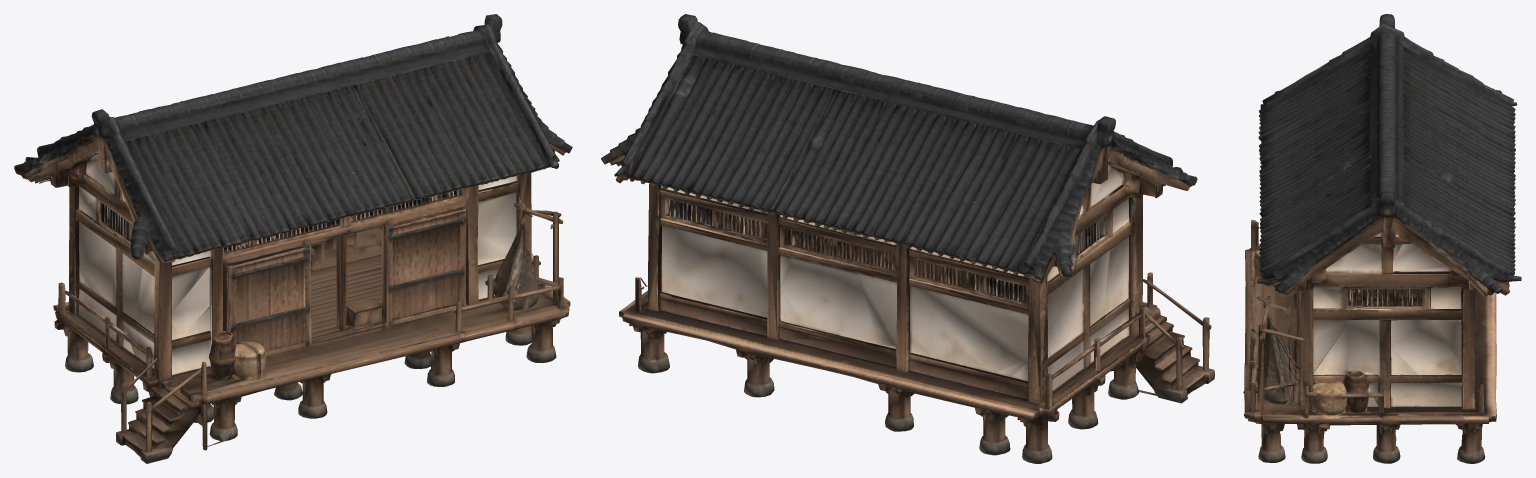
The model's file is 14_Riverside_Storehouse_LOD1.fbx.
3 renders of one model, left to right at view 1: azimuth 30°, elevation 25°; view 2: azimuth 150°, elevation 25°; view 3: azimuth 270°, elevation 25°, orthographic. The views are drawn at different scales.
Parts seen in each view (by area): view 1: 14_Riverside_Storehouse_L1; view 2: 14_Riverside_Storehouse_L1; view 3: 14_Riverside_Storehouse_L1.
Part boxes in pixels (left/top/right/bottom): 14_Riverside_Storehouse_L1: left=14, top=14, right=572, bottom=463; 14_Riverside_Storehouse_L1: left=601, top=14, right=1214, bottom=463; 14_Riverside_Storehouse_L1: left=1243, top=14, right=1521, bottom=463.
Size of the model in its own units: 11.08 by 7 by 6.51.
